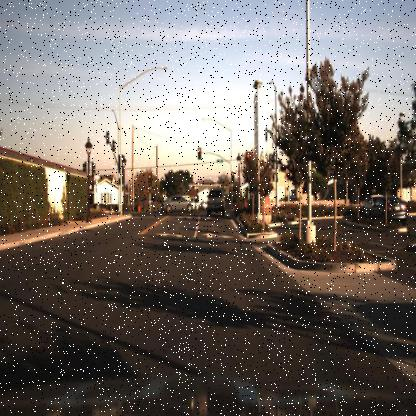car: (366, 190, 410, 226), (162, 191, 198, 214), (204, 184, 227, 213), (359, 192, 374, 224)
trafficLight-Red: (145, 174, 153, 189), (197, 146, 204, 162), (245, 147, 251, 163), (195, 144, 202, 156), (145, 172, 152, 182), (229, 168, 235, 179)
